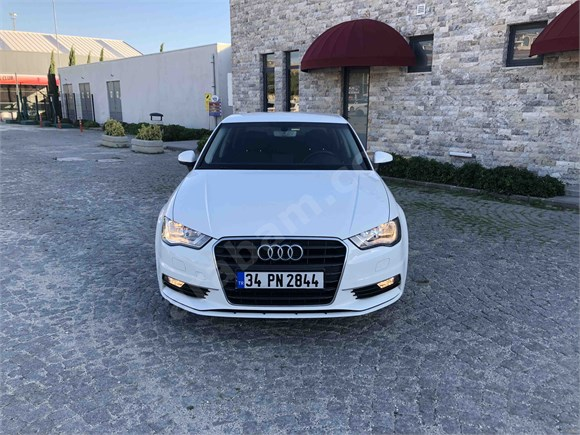audi: (254, 243, 305, 261)
